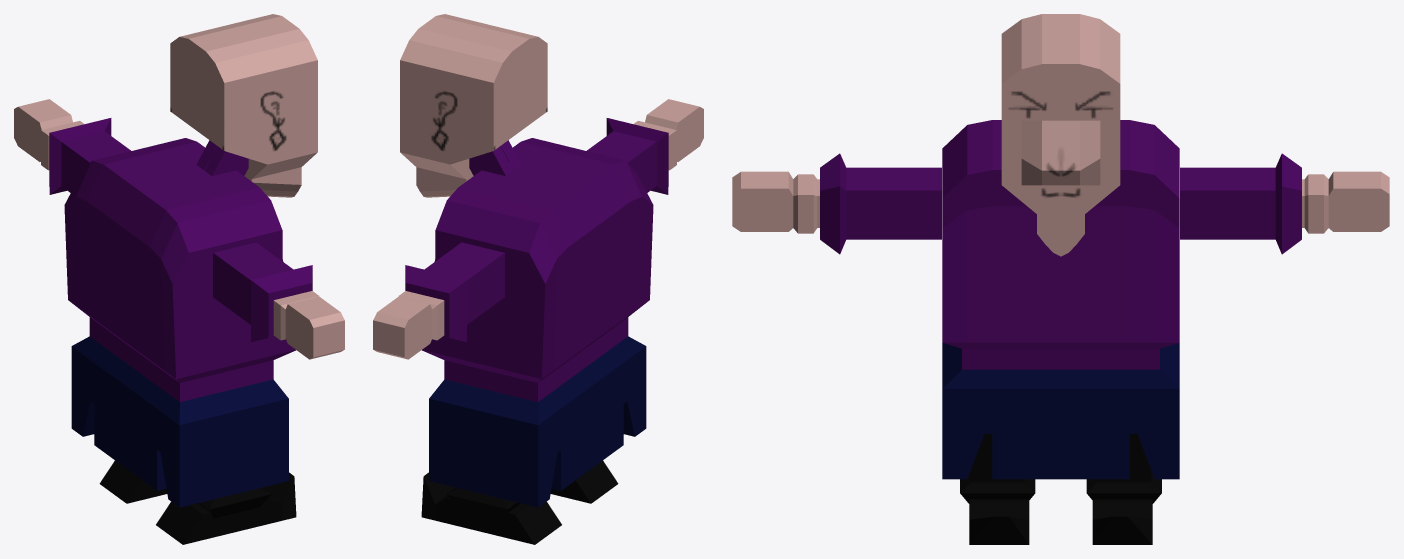
Rendered from ismaelita.fbx.
3 views of the same model, side by side, from view 1: azimuth 30°, elevation 25°; view 2: azimuth 150°, elevation 25°; view 3: azimuth 270°, elevation 25° (orthographic). The views are drawn at different scales.
Parts seen in each view (by area): view 1: Cube; view 2: Cube; view 3: Cube.
Part boxes in pixels (bbox=[...]): Cube: bbox=[14, 14, 344, 544]; Cube: bbox=[373, 14, 703, 544]; Cube: bbox=[732, 14, 1389, 544].
Bounding box in the file's own units: 399 × 930 × 1107.
